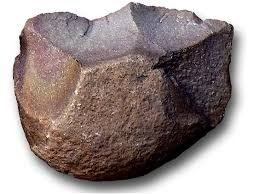obstacle: (13, 3, 232, 179)
